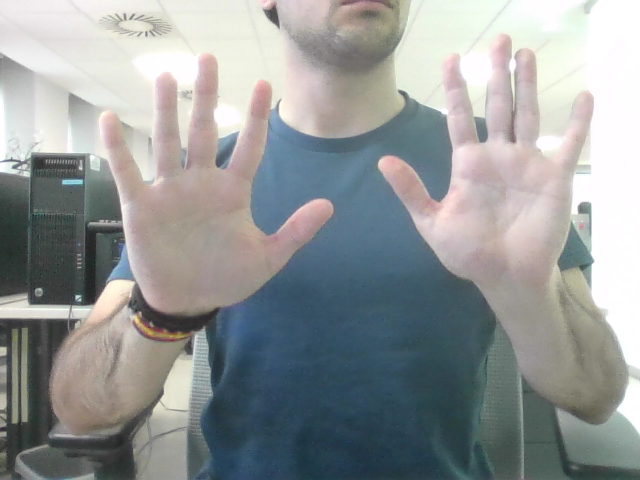Manos Arriba: (132, 55, 562, 276)
